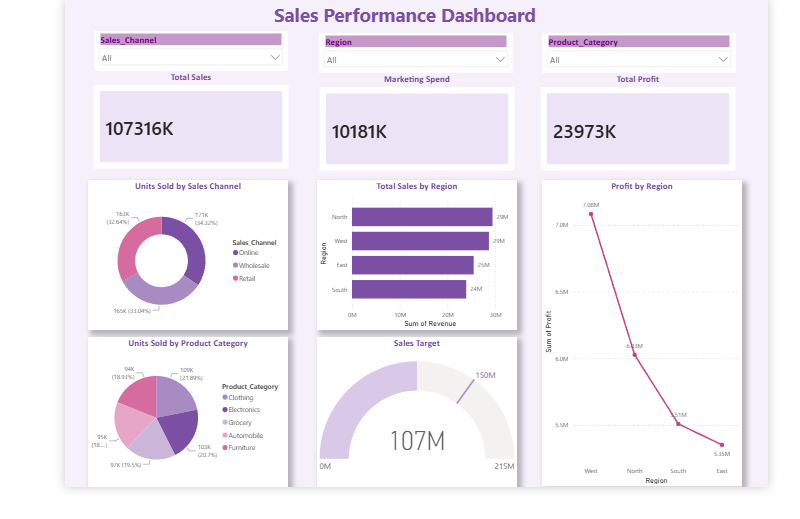

What the dashboard file says about the page in this screenshot:
{"tool":"powerbi","page":{"name":"Page 1","canvas":[1406,975],"ordinal":0},"visuals":[{"type":"cardVisual","title":"Total Sales","fields":{"Data":["Sum(sales_data.Revenue)"]},"box":[51.7,143.3,400,200],"z":0},{"type":"cardVisual","title":"Marketing Spend","fields":{"Data":["Sum(sales_data.Marketing_Spend)"]},"box":[503.3,148.3,400,200],"z":1000},{"type":"cardVisual","title":"Total Profit","fields":{"Data":["Sum(sales_data.Profit)"]},"box":[946.7,148.3,400,200],"z":2000},{"type":"donutChart","title":"Units Sold by Sales Channel","fields":{"Category":["sales_data.Sales_Channel"],"Y":["Sum(sales_data.Units_Sold)"]},"box":[46.7,361.7,400,300],"z":3000},{"type":"clusteredBarChart","title":"Total Sales by Region","fields":{"Category":["sales_data.Region"],"Y":["Sum(sales_data.Revenue)"]},"box":[503.3,361.7,400,300],"z":4000},{"type":"lineChart","title":"Profit by Region","fields":{"Category":["sales_data.Region"],"Y":["Sum(sales_data.Profit)"]},"box":[953.3,361.7,400,613.3],"z":5000},{"type":"pieChart","title":"Units Sold by Product Category","fields":{"Category":["sales_data.Product_Category"],"Y":["Sum(sales_data.Units_Sold)"]},"box":[46.7,675,400,300],"z":6000},{"type":"gauge","title":"Sales Target","fields":{"Y":["Sum(sales_data.Revenue)"],"TargetValue":["sales_data.Sales Target"]},"box":[503.3,675,400,300],"z":7000},{"type":"textbox","box":[320,0,720,68.3],"z":8000},{"type":"slicer","fields":{"Values":["sales_data.Sales_Channel"]},"box":[58.3,63.3,388.3,80],"z":9000},{"type":"slicer","fields":{"Values":["sales_data.Region"]},"box":[508.3,68.3,388.3,80],"z":10000},{"type":"slicer","fields":{"Values":["sales_data.Product_Category"]},"box":[953.3,68.3,388.3,80],"z":11000}]}

Visuals, with their boxes on the page's 1406x975 design canvas (x1, y1, x2, y2). These are canvas units, not pixel positions in the 800x519 screenshot, which may show the page scaled, cropped or inside an application window:
"Total Sales" cardVisual: select_region(52, 143, 452, 343)
"Marketing Spend" cardVisual: select_region(503, 148, 903, 348)
"Total Profit" cardVisual: select_region(947, 148, 1347, 348)
"Units Sold by Sales Channel" donutChart: select_region(47, 362, 447, 662)
"Total Sales by Region" clusteredBarChart: select_region(503, 362, 903, 662)
"Profit by Region" lineChart: select_region(953, 362, 1353, 975)
"Units Sold by Product Category" pieChart: select_region(47, 675, 447, 975)
"Sales Target" gauge: select_region(503, 675, 903, 975)
textbox: select_region(320, 0, 1040, 68)
slicer - sales_data.Sales_Channel: select_region(58, 63, 447, 143)
slicer - sales_data.Region: select_region(508, 68, 897, 148)
slicer - sales_data.Product_Category: select_region(953, 68, 1342, 148)
